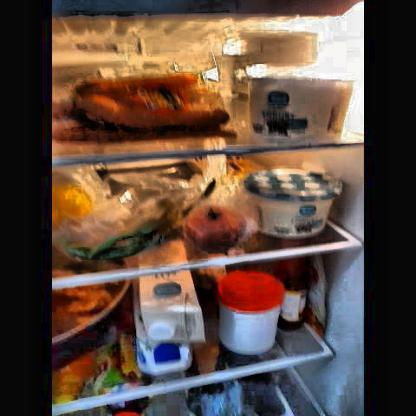carrot: (54, 72, 228, 138)
green_chillies: (60, 216, 181, 258)
lemon: (53, 182, 98, 228)
milk: (135, 280, 208, 367)
tomato: (189, 207, 247, 244)
yoghurt: (246, 76, 348, 145), (246, 169, 338, 238)
